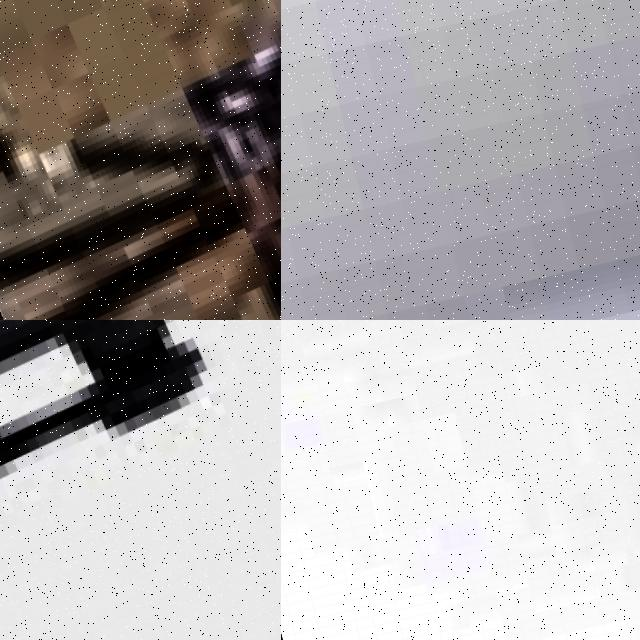0: (0, 0, 281, 320)
drone: (0, 320, 281, 640)
